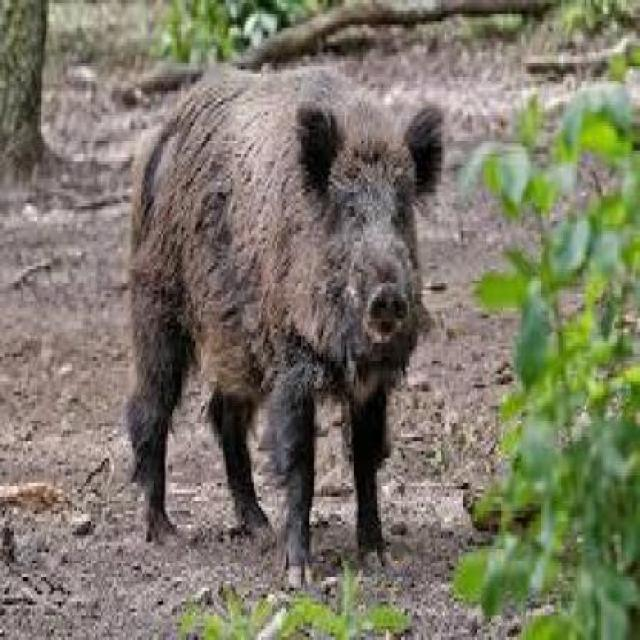wildboar: (122, 56, 450, 604)
